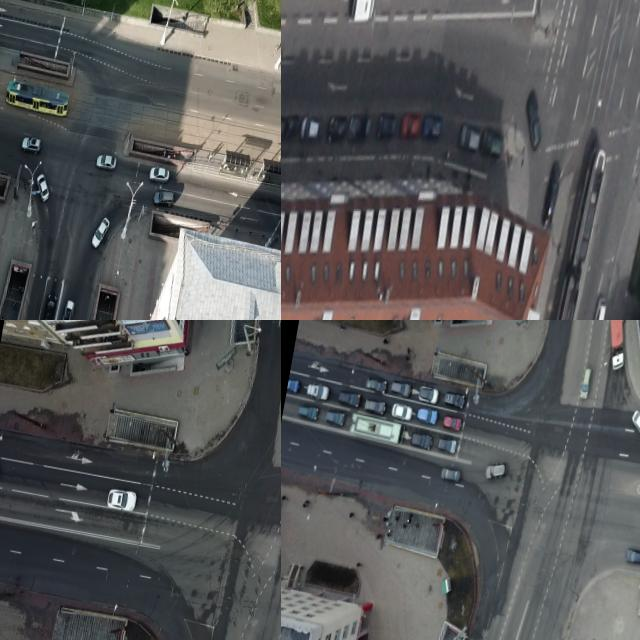UAI: (519, 85, 550, 152), (540, 159, 563, 228), (105, 487, 138, 514), (346, 114, 372, 146), (479, 130, 504, 159), (457, 124, 482, 153), (326, 113, 348, 145), (303, 380, 332, 404), (91, 216, 111, 250), (483, 457, 509, 483), (375, 112, 397, 142), (33, 172, 53, 203), (399, 112, 421, 140), (298, 115, 320, 143), (409, 429, 435, 452), (387, 379, 414, 401), (577, 366, 594, 400), (283, 110, 301, 142), (414, 405, 439, 428), (415, 383, 440, 406), (336, 387, 362, 409), (587, 294, 608, 320), (295, 400, 321, 421), (421, 115, 442, 140), (361, 396, 387, 416), (442, 389, 466, 410), (323, 408, 347, 429), (363, 374, 388, 394), (438, 463, 461, 484), (435, 435, 458, 456), (152, 188, 176, 208), (390, 402, 414, 422), (40, 292, 57, 320), (148, 164, 171, 184), (20, 135, 43, 155), (626, 408, 640, 440), (95, 152, 117, 171), (441, 414, 463, 433), (58, 299, 75, 320), (623, 546, 640, 566)
UAP: (600, 320, 633, 373)
car: (4, 79, 71, 118), (346, 414, 406, 447)
harvester: (348, 0, 377, 27)
